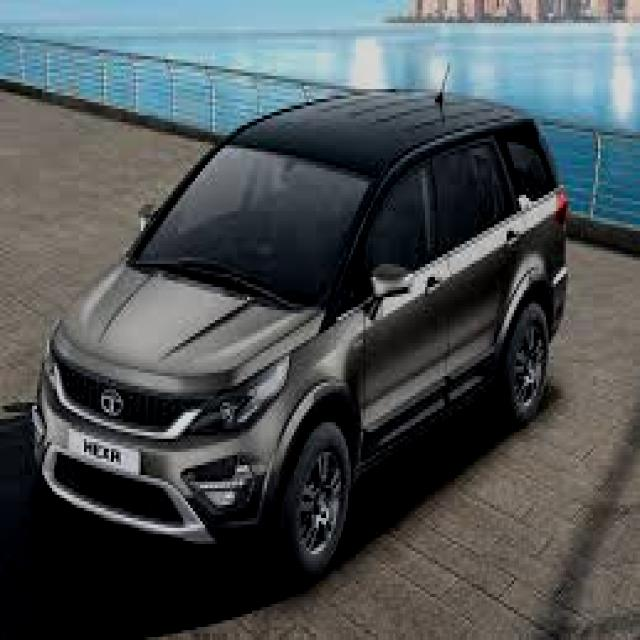SUV: (27, 89, 564, 580)
